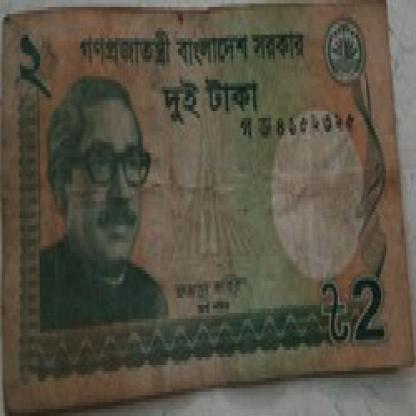two taka: (17, 24, 65, 108), (349, 270, 388, 361)
